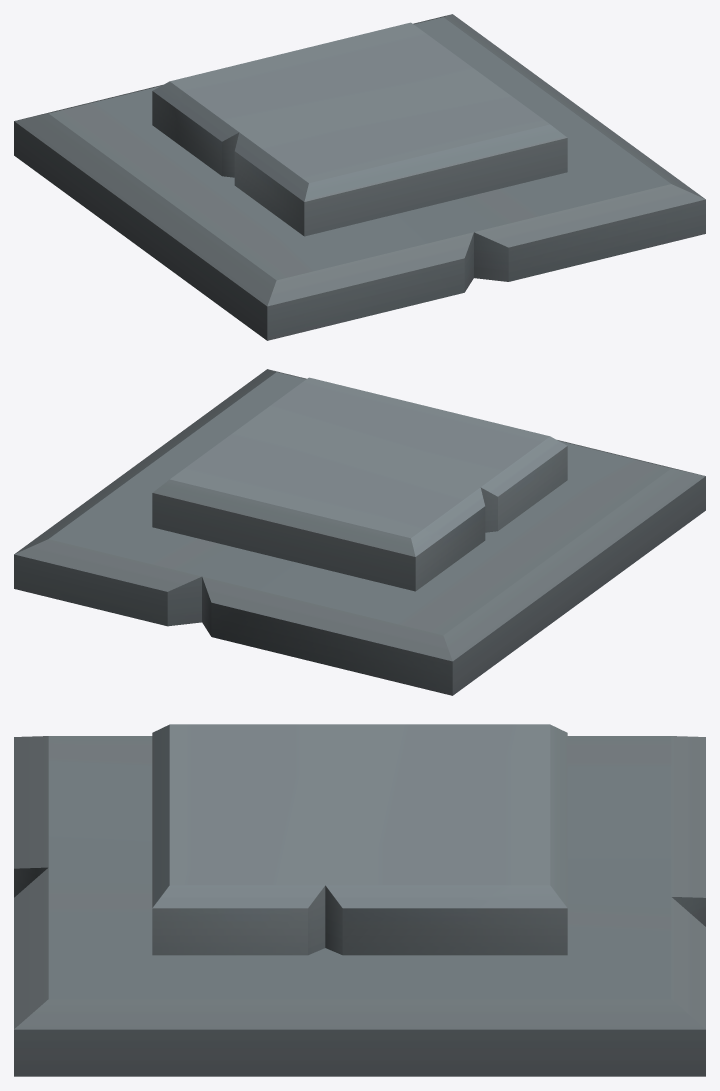
The model's file is kaykit-halloween-bits-plaque.glb.
3 views of the same model, one above another, from view 1: azimuth 30°, elevation 25°; view 2: azimuth 150°, elevation 25°; view 3: azimuth 270°, elevation 25° (orthographic). The views are drawn at different scales.
Visible parts, largest first — view 1: plaque; view 2: plaque; view 3: plaque.
Part boxes in pixels (x1,y1,x2,y2): plaque: [14, 14, 705, 340]; plaque: [14, 369, 705, 695]; plaque: [14, 724, 705, 1076].
Bounding box in the file's own units: 2 × 0.3999 × 2.
Materials: 1 (1 with a texture image).
